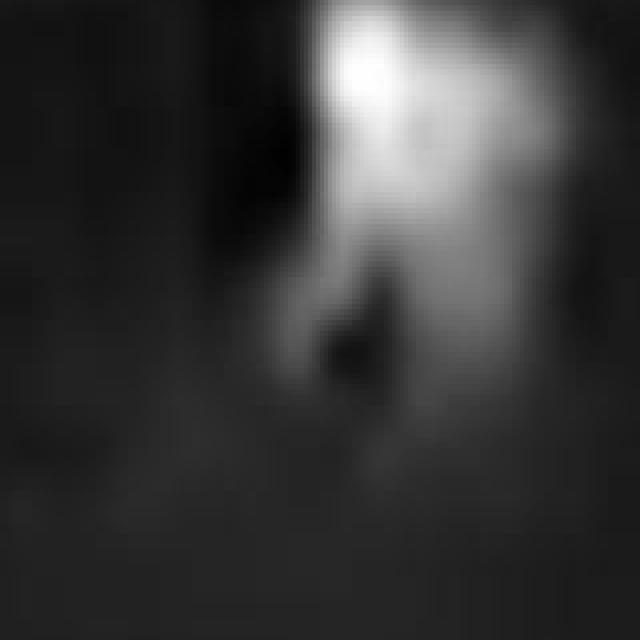person: (249, 1, 561, 497)
